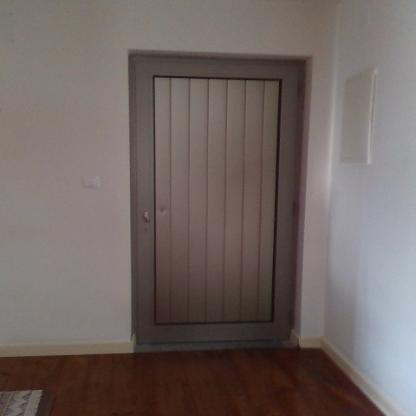closed: (118, 34, 324, 362)
